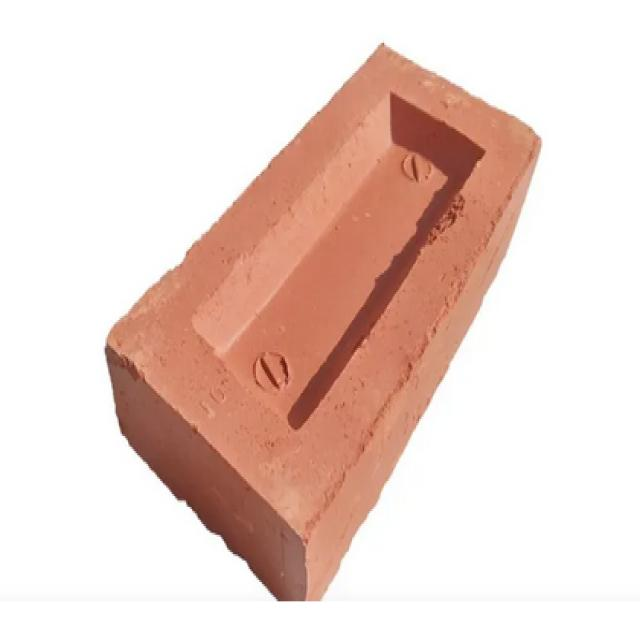bricks: (102, 40, 544, 603)
